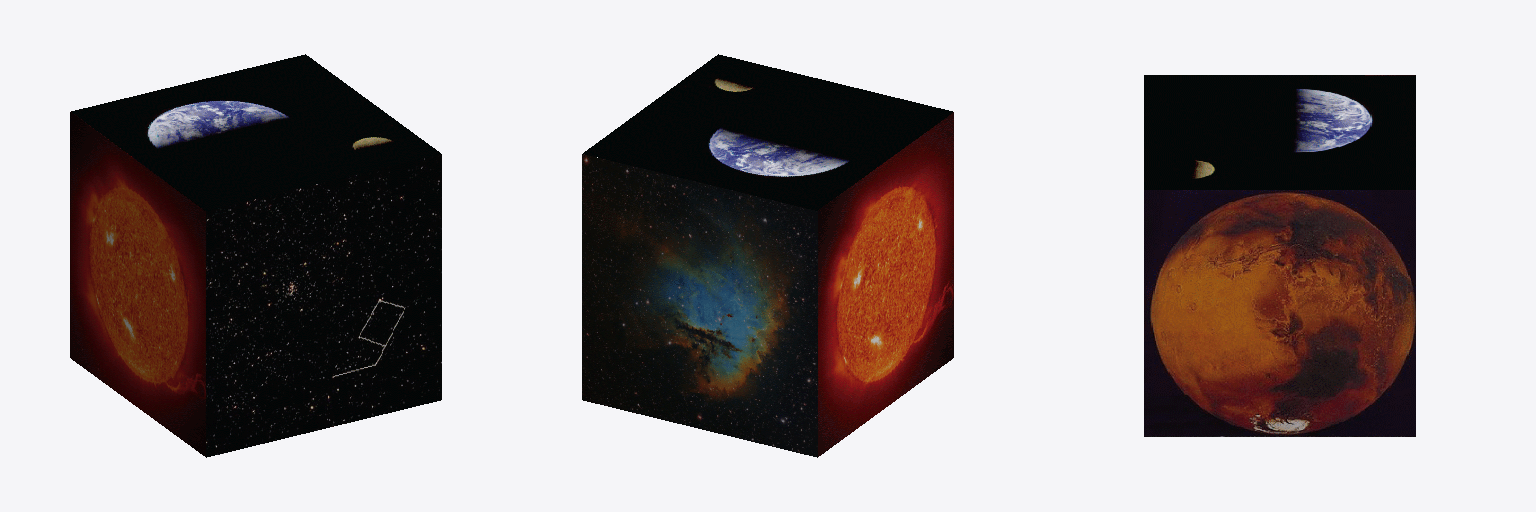
The picture shows the model from 3 angles: view 1: azimuth 30°, elevation 25°; view 2: azimuth 150°, elevation 25°; view 3: azimuth 270°, elevation 25°; orthographic projection.
Parts seen in each view (by area): view 1: cube1; view 2: cube1; view 3: cube1.
Boxes of the visible parts, x1=… form: cube1: x1=70, y1=54, x2=441, y2=457; cube1: x1=582, y1=54, x2=953, y2=457; cube1: x1=1144, y1=75, x2=1415, y2=436.
Bounding box in the file's own units: 137 × 137 × 137.
Materials: 1 (1 with a texture image).